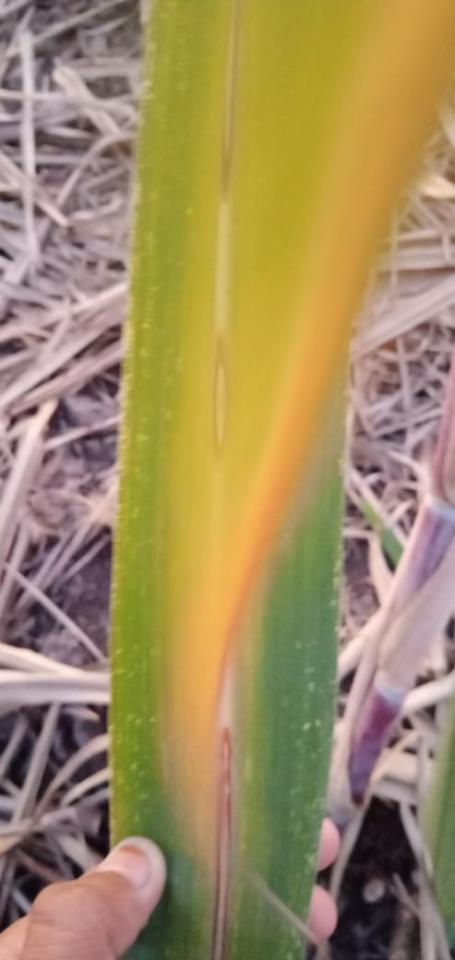RedRot: (212, 728, 233, 959), (220, 0, 238, 199), (212, 337, 230, 456)
Yellow: (177, 0, 454, 810)
